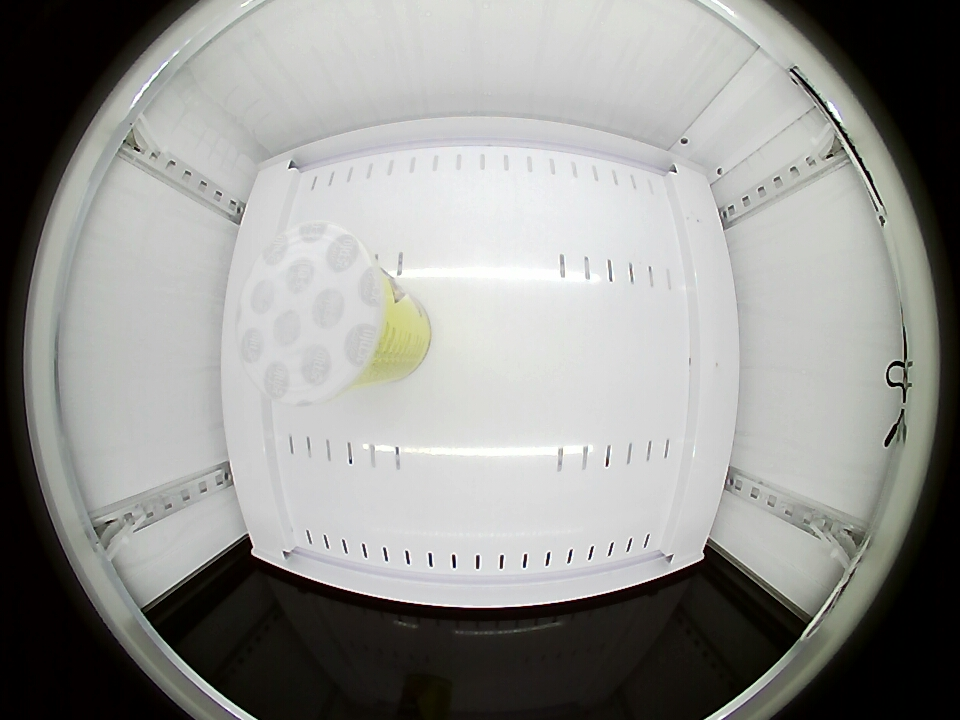kebike: (237, 220, 397, 405)
